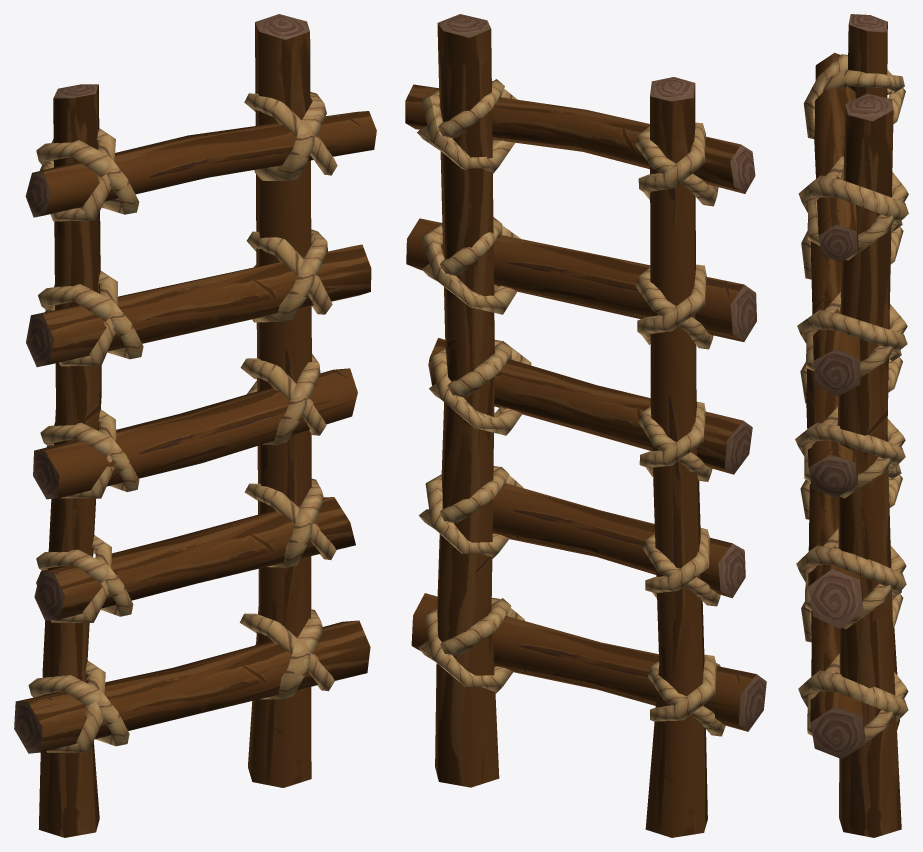
File: SM_PROP_ladder_battle_01.fbx
3 views of the same model, side by side, from view 1: azimuth 30°, elevation 25°; view 2: azimuth 150°, elevation 25°; view 3: azimuth 270°, elevation 25° (orthographic). The views are drawn at different scales.
Visible parts, largest first — view 1: SM_PROP_ladder_battle_01; view 2: SM_PROP_ladder_battle_01; view 3: SM_PROP_ladder_battle_01.
Part boxes in pixels (left/top/right/bottom): SM_PROP_ladder_battle_01: left=14, top=14, right=376, bottom=837; SM_PROP_ladder_battle_01: left=405, top=14, right=766, bottom=837; SM_PROP_ladder_battle_01: left=795, top=14, right=908, bottom=837.
Size of the model in its own units: 98.44 by 201 by 28.74.
